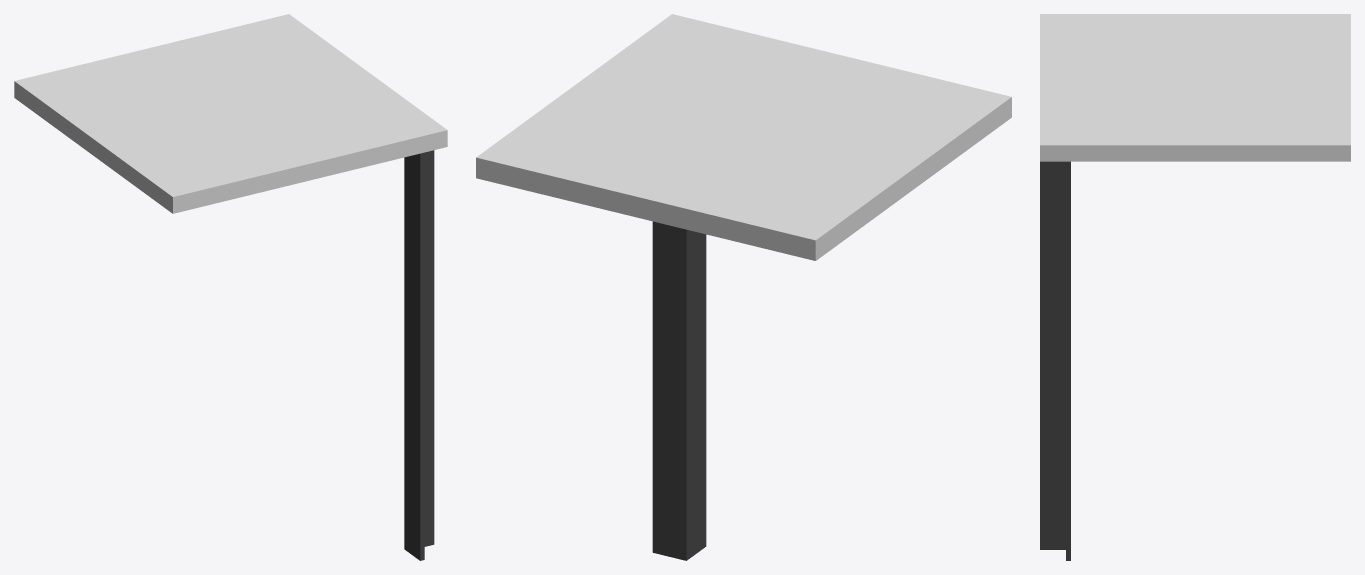
Rendered from KitchenCorner1_C3_01.fbx.
3 views of the same model, side by side, from view 1: azimuth 30°, elevation 25°; view 2: azimuth 150°, elevation 25°; view 3: azimuth 270°, elevation 25° (orthographic). The views are drawn at different scales.
Visible parts, largest first — view 1: KitchenCorner1_C3_01; view 2: KitchenCorner1_C3_01; view 3: KitchenCorner1_C3_01.
Boxes of the visible parts, left/top/right/bottom form: KitchenCorner1_C3_01: left=14, top=14, right=447, bottom=560; KitchenCorner1_C3_01: left=476, top=14, right=1011, bottom=560; KitchenCorner1_C3_01: left=1040, top=14, right=1350, bottom=560.
Bounding box in the file's own units: 60 × 88.5 × 60.
